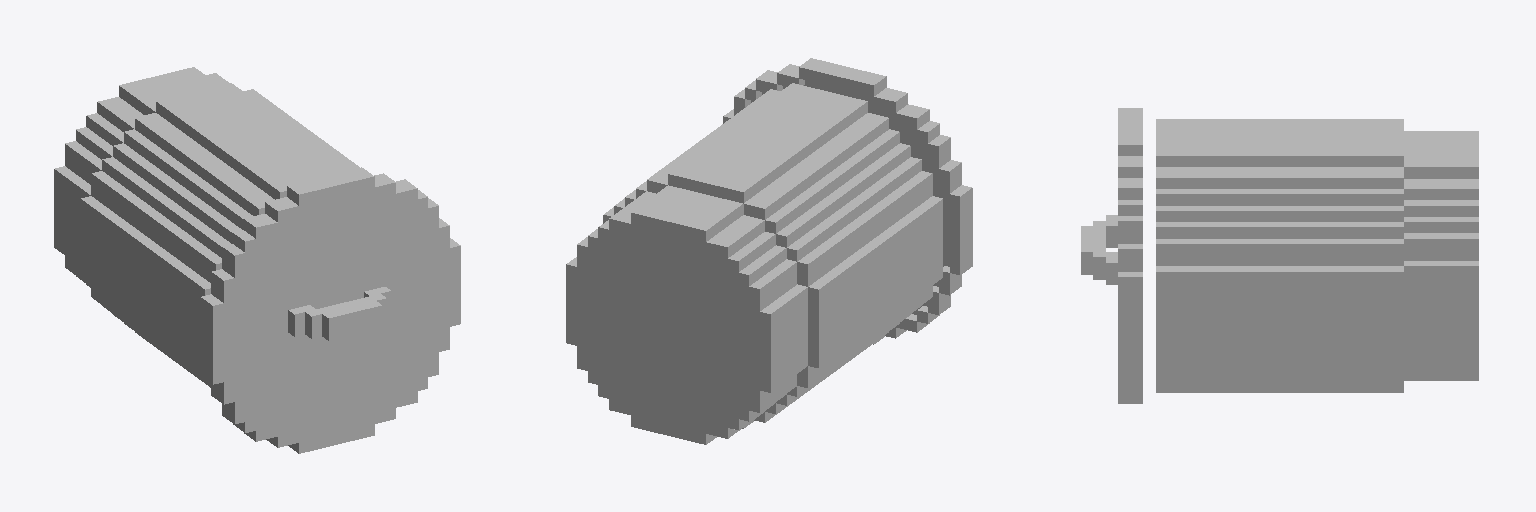
Rendered from trashcan.obj.
3 renders of one model, left to right at view 1: azimuth 30°, elevation 25°; view 2: azimuth 150°, elevation 25°; view 3: azimuth 270°, elevation 25°, orthographic.
Parts seen in each view (by area): view 1: object 1; view 2: object 1; view 3: object 1.
Boxes of the visible parts, box(x1,y1,x2,y2) form: object 1: box(54, 67, 460, 453); object 1: box(566, 58, 972, 444); object 1: box(1081, 108, 1478, 403).
Size of the model in its own units: 2.3 by 2.3 by 3.2.